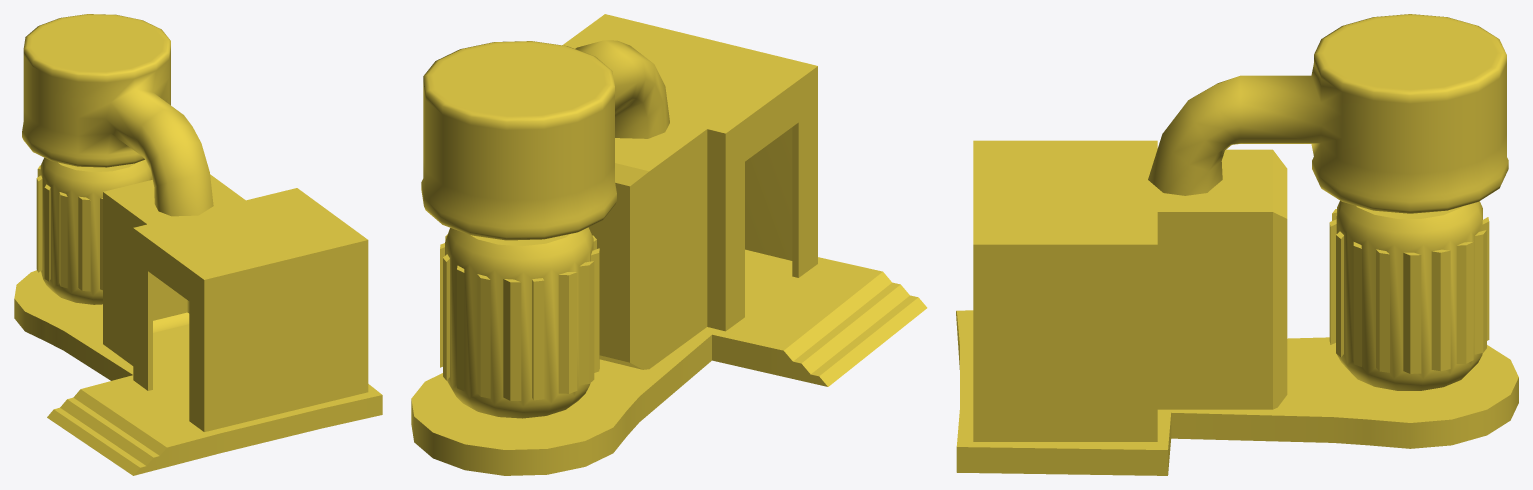
The picture shows the model from 3 angles, left to right: view 1: azimuth 30°, elevation 25°; view 2: azimuth 150°, elevation 25°; view 3: azimuth 270°, elevation 25°; orthographic projection. The views are drawn at different scales.
Visible parts, largest first — view 1: Cube.007, Cylinder.002, Cylinder.003, Cylinder.004; view 2: Cube.007, Cylinder.002, Cylinder.003, Cylinder.004; view 3: Cube.007, Cylinder.002, Cylinder.003, Cylinder.004.
Part boxes in pixels (x1=…): Cube.007: x1=103, y1=174, x2=368, y2=431; Cylinder.002: x1=22, y1=14, x2=213, y2=216; Cylinder.003: x1=14, y1=270, x2=382, y2=475; Cylinder.004: x1=36, y1=157, x2=152, y2=304; Cube.007: x1=562, y1=14, x2=817, y2=369; Cylinder.002: x1=421, y1=40, x2=669, y2=240; Cylinder.003: x1=411, y1=249, x2=927, y2=475; Cylinder.004: x1=440, y1=227, x2=599, y2=418; Cube.007: x1=973, y1=140, x2=1287, y2=441; Cylinder.002: x1=1148, y1=14, x2=1508, y2=213; Cylinder.003: x1=956, y1=310, x2=1518, y2=475; Cylinder.004: x1=1329, y1=200, x2=1489, y2=390.
Bounding box in the file's own units: 805 × 800 × 1166.
